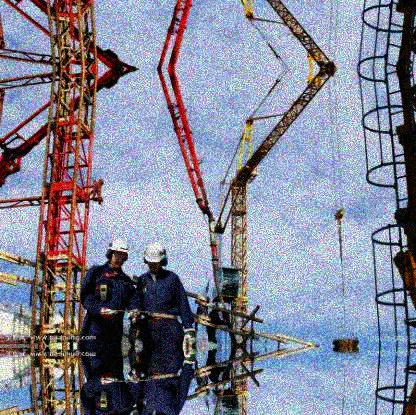helmet: (144, 243, 169, 275), (108, 239, 131, 270)
